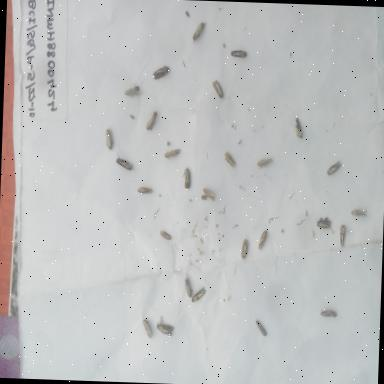pbw: (287, 112, 312, 142), (316, 302, 342, 324), (133, 176, 155, 202), (177, 162, 193, 196), (139, 311, 155, 345), (148, 62, 172, 84), (228, 40, 250, 64), (187, 286, 210, 308), (326, 154, 344, 182), (190, 13, 206, 44), (142, 107, 158, 138), (114, 152, 136, 174), (220, 148, 240, 172), (101, 126, 118, 154), (209, 78, 228, 103), (162, 143, 180, 168), (154, 318, 174, 340), (154, 225, 177, 244), (344, 202, 368, 220), (253, 314, 268, 342), (120, 82, 142, 101), (335, 223, 351, 249), (312, 216, 334, 232), (182, 273, 196, 298), (256, 225, 270, 250), (237, 234, 250, 260), (250, 155, 274, 169), (200, 184, 218, 201)
